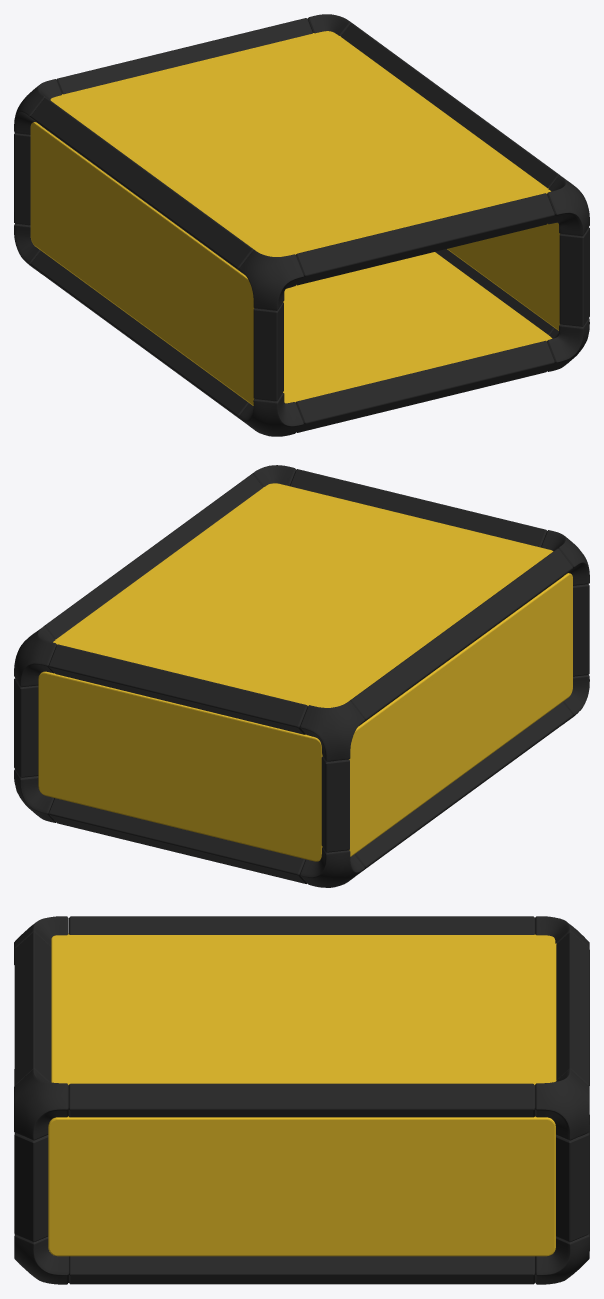
3 views of the same model, one above another, from view 1: azimuth 30°, elevation 25°; view 2: azimuth 150°, elevation 25°; view 3: azimuth 270°, elevation 25° (orthographic). The views are drawn at different scales.
Parts seen in each view (by area): view 1: 229x329x79; view 2: 229x329x79; view 3: 229x329x79.
Boxes of the visible parts, x1,y1,x2,y2 form: 229x329x79: [14, 14, 589, 436]; 229x329x79: [14, 465, 589, 887]; 229x329x79: [14, 916, 589, 1284].
Bounding box in the file's own units: 0.3067 × 0.1566 × 0.4063.
